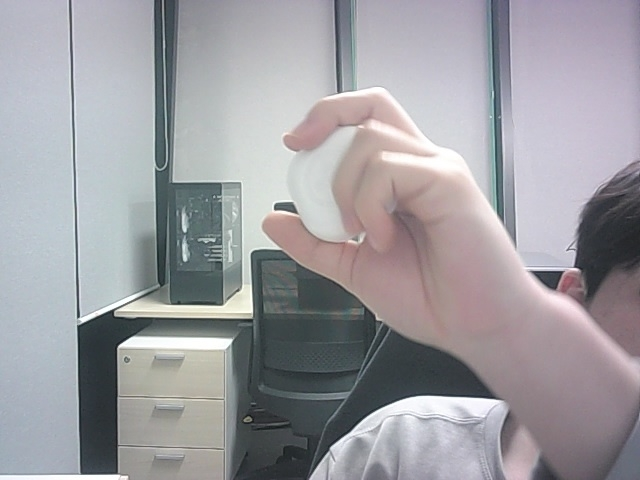case: (288, 128, 357, 241)
